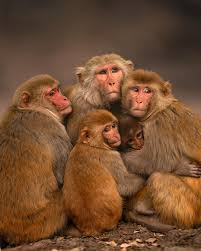monkey: (23, 37, 201, 205)
